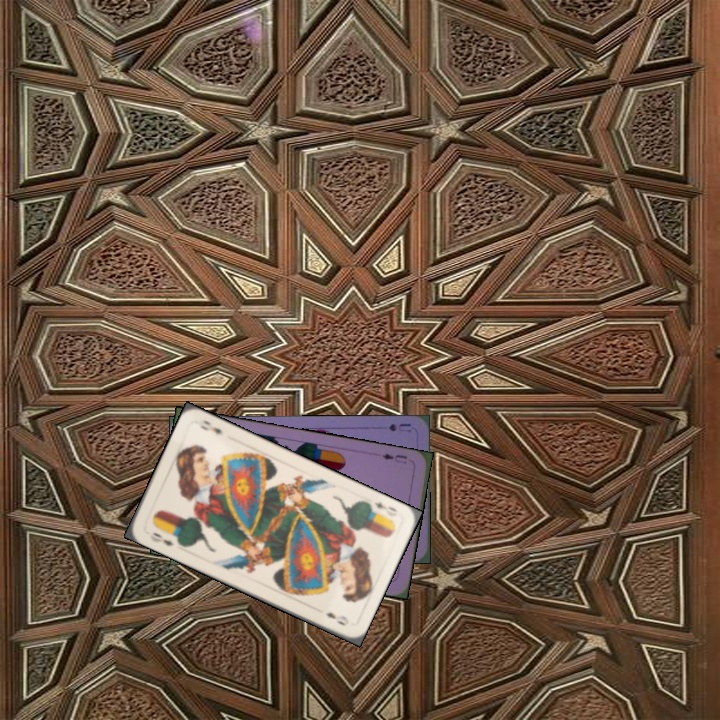EO: (364, 498, 399, 516), (149, 528, 177, 549)
EU: (375, 449, 410, 467)
SU: (384, 419, 413, 434)
